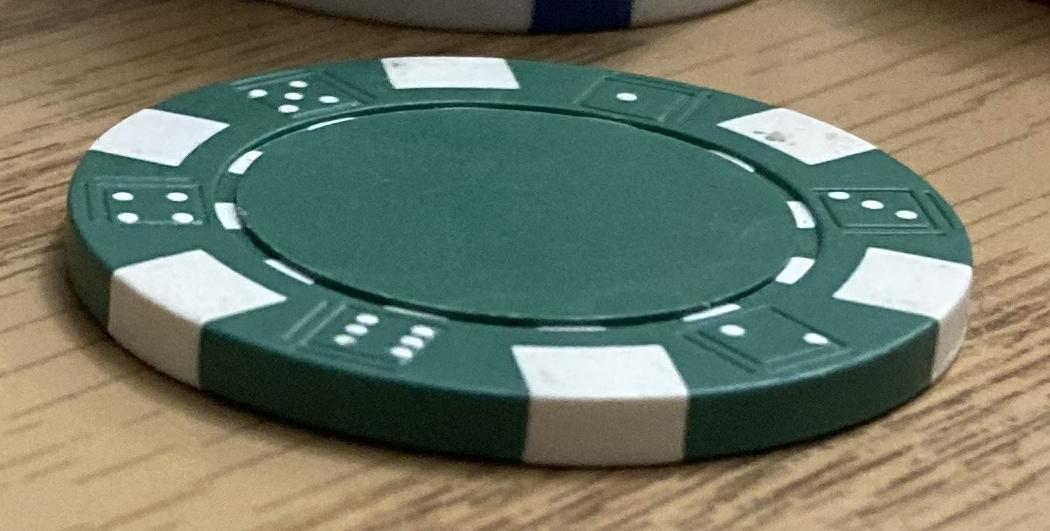Chip: (1, 1, 1050, 531)
